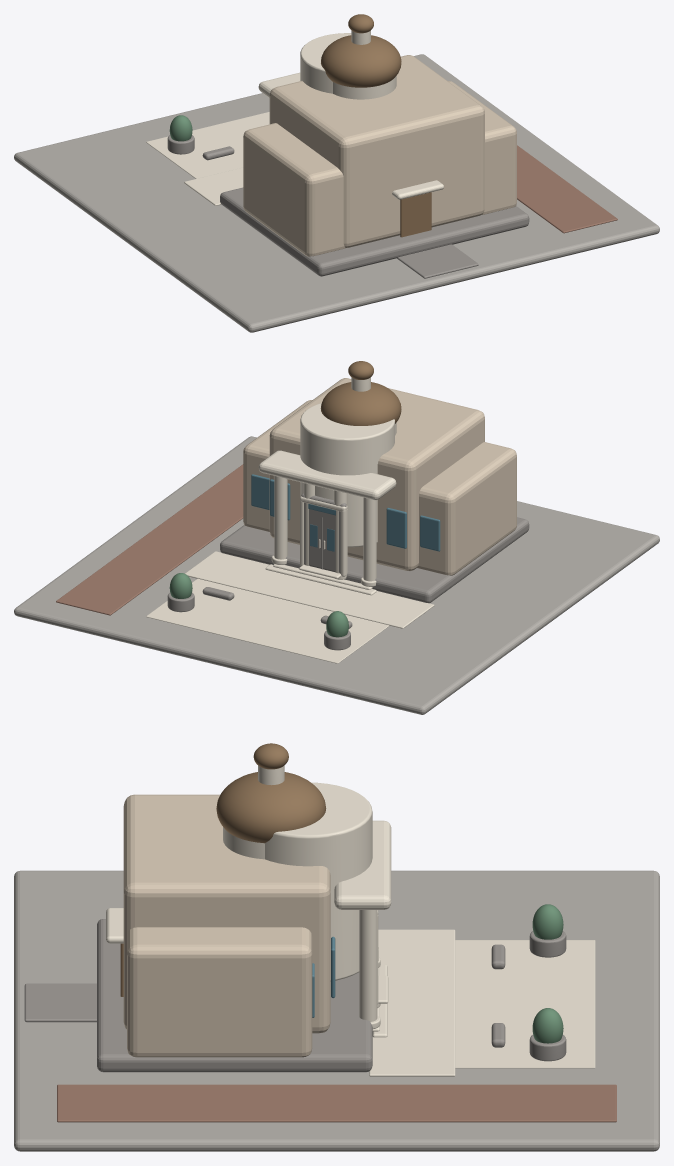
Rendered from civic_hall_landmark_v1.2ef23fb5e7f9.glb.
3 views of the same model, one above another, from view 1: azimuth 30°, elevation 25°; view 2: azimuth 150°, elevation 25°; view 3: azimuth 270°, elevation 25° (orthographic). The views are drawn at different scales.
Parts seen in each view (by area): view 1: PAD_CIVIC_HALL_01, CivicHall_MainBody, CivicHall_WestWing, CivicHall_Plinth, Emergency_Route_4m, CivicHall_Dome, FRONTAGE_CIVIC_HALL_01_MAIN, CivicHall_EastWing, SERVICE_CIVIC_HALL_01_REAR, CivicHall_Rotunda, CivicHall_RearDoor, Public_Pedestrian_Band_4m (+3 smaller); view 2: PAD_CIVIC_HALL_01, CivicHall_MainBody, CivicHall_WestWing, Emergency_Route_4m, FRONTAGE_CIVIC_HALL_01_MAIN, Public_Pedestrian_Band_4m, CivicHall_Rotunda, CivicHall_Plinth, CivicHall_PorticoCanopy, CivicHall_Dome, CivicHall_EastWing, CivicHall_EntryRecess (+7 smaller); view 3: PAD_CIVIC_HALL_01, CivicHall_EastWing, CivicHall_MainBody, Emergency_Route_4m, FRONTAGE_CIVIC_HALL_01_MAIN, Public_Pedestrian_Band_4m, CivicHall_Plinth, CivicHall_Rotunda, CivicHall_Dome, CivicHall_PorticoCanopy, SERVICE_CIVIC_HALL_01_REAR, CivicHall_PorticoColumn (+7 smaller).
Boxes of the visible parts, x1=… form: PAD_CIVIC_HALL_01: x1=14, y1=54, x2=659, y2=332; CivicHall_MainBody: x1=269, y1=55, x2=484, y2=247; CivicHall_WestWing: x1=243, y1=123, x2=345, y2=256; CivicHall_Plinth: x1=220, y1=187, x2=529, y2=276; Emergency_Route_4m: x1=517, y1=145, x2=617, y2=233; CivicHall_Dome: x1=321, y1=35, x2=401, y2=87; FRONTAGE_CIVIC_HALL_01_MAIN: x1=146, y1=112, x2=269, y2=178; CivicHall_EastWing: x1=448, y1=81, x2=516, y2=214; SERVICE_CIVIC_HALL_01_REAR: x1=397, y1=244, x2=478, y2=278; CivicHall_Rotunda: x1=300, y1=33, x2=351, y2=93; CivicHall_RearDoor: x1=400, y1=192, x2=431, y2=237; Public_Pedestrian_Band_4m: x1=184, y1=167, x2=243, y2=205; PAD_CIVIC_HALL_01: x1=14, y1=436, x2=659, y2=714; CivicHall_MainBody: x1=269, y1=378, x2=484, y2=571; CivicHall_WestWing: x1=417, y1=442, x2=516, y2=575; Emergency_Route_4m: x1=56, y1=464, x2=243, y2=615; FRONTAGE_CIVIC_HALL_01_MAIN: x1=146, y1=578, x2=389, y2=663; Public_Pedestrian_Band_4m: x1=185, y1=551, x2=434, y2=628; CivicHall_Rotunda: x1=300, y1=403, x2=394, y2=547; CivicHall_Plinth: x1=220, y1=517, x2=529, y2=603; CivicHall_PorticoCanopy: x1=258, y1=450, x2=396, y2=500; CivicHall_Dome: x1=320, y1=382, x2=401, y2=425; CivicHall_EastWing: x1=243, y1=400, x2=312, y2=531; CivicHall_EntryRecess: x1=301, y1=493, x2=346, y2=573; PAD_CIVIC_HALL_01: x1=14, y1=870, x2=659, y2=1151; CivicHall_EastWing: x1=127, y1=927, x2=312, y2=1057; CivicHall_MainBody: x1=123, y1=794, x2=330, y2=1033; Emergency_Route_4m: x1=57, y1=1084, x2=616, y2=1122; FRONTAGE_CIVIC_HALL_01_MAIN: x1=455, y1=940, x2=595, y2=1068; Public_Pedestrian_Band_4m: x1=369, y1=929, x2=455, y2=1076; CivicHall_Plinth: x1=97, y1=919, x2=372, y2=1072; CivicHall_Rotunda: x1=265, y1=782, x2=372, y2=981; CivicHall_Dome: x1=216, y1=772, x2=326, y2=843; CivicHall_PorticoCanopy: x1=334, y1=820, x2=391, y2=909; SERVICE_CIVIC_HALL_01_REAR: x1=24, y1=983, x2=96, y2=1022; CivicHall_PorticoColumn: x1=359, y1=910, x2=377, y2=1021.
Size of the model in its own units: 30 by 13.9 by 30.
